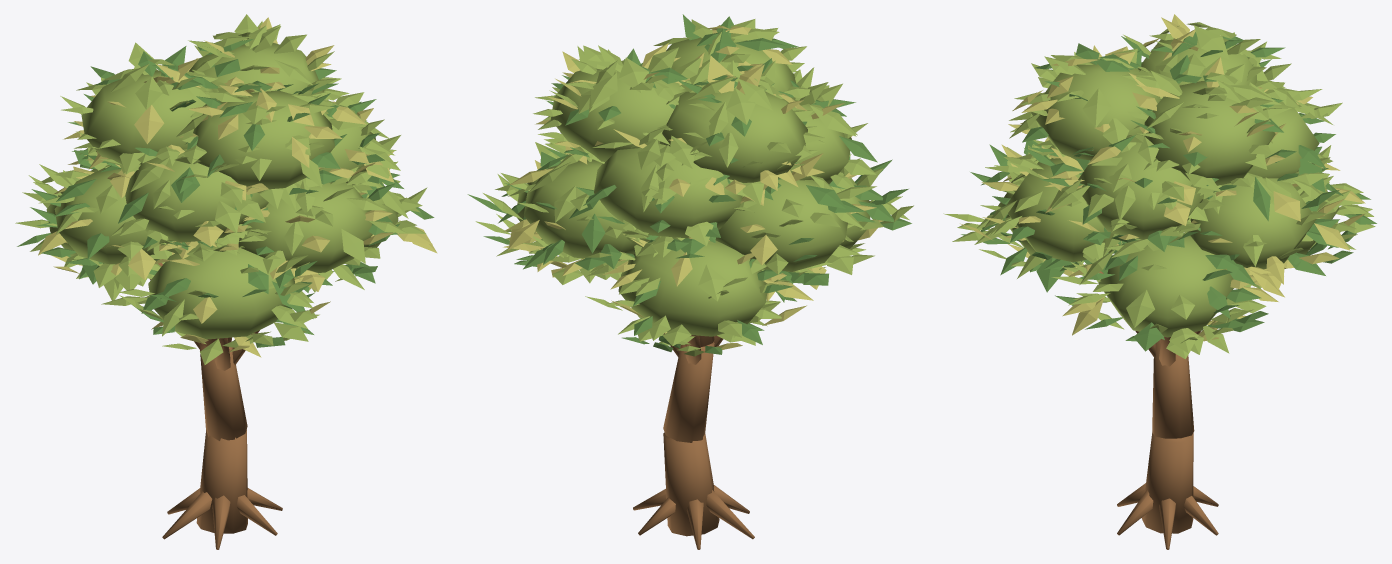
File: tree_large_gold.glb
3 renders of one model, left to right at view 1: azimuth 30°, elevation 25°; view 2: azimuth 150°, elevation 25°; view 3: azimuth 270°, elevation 25°, orthographic.
Visible parts, largest first — view 1: tree_large_gold; view 2: tree_large_gold; view 3: tree_large_gold.
Boxes of the visible parts, <box> form: tree_large_gold: <box>15,14,437,549</box>; tree_large_gold: <box>467,14,913,549</box>; tree_large_gold: <box>943,14,1376,549</box>.
Bounding box in the file's own units: 6.39 × 7.77 × 6.44.
